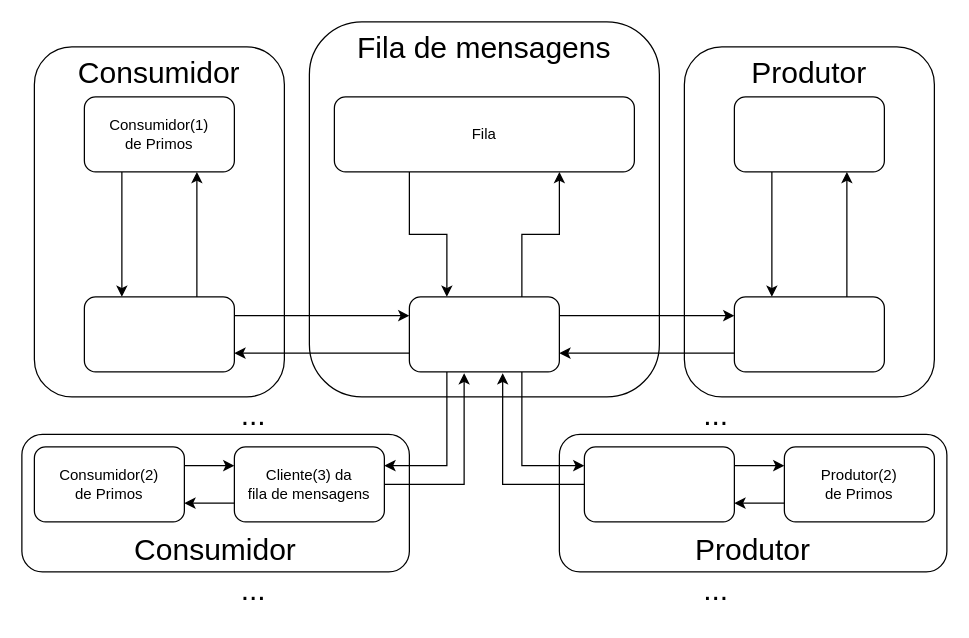
This 969x638 diagram has some shape labels left out. Here are the shapes that lost their labels. From the top down, the centre of each, then its label:
At pixel 808 134: "Produtor(1) de Primos".
At pixel 158 334: "Cliente(1) da fila de mensagens".
At pixel 483 334: "Servidor da fila de mensagens".
At pixel 808 334: "Cliente(2) da fila de mensagens".
At pixel 658 484: "Cliente(4) da fila de mensagens".
